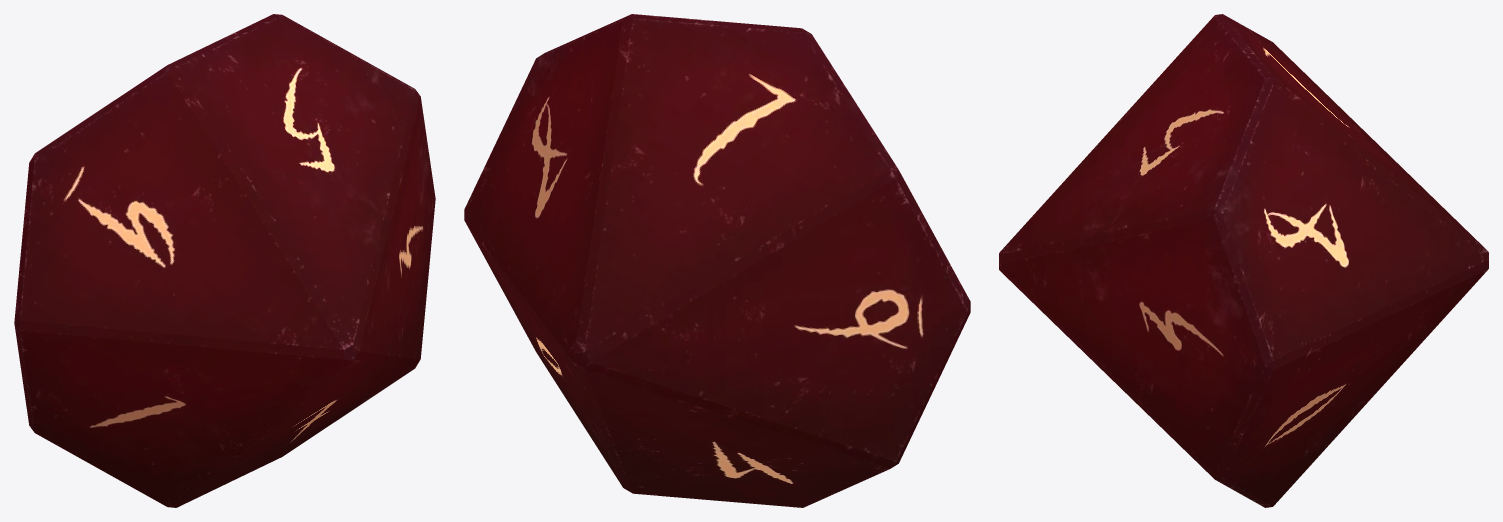
The model's file is DragonGem_d10.gltf.
The picture shows the model from 3 angles, left to right: view 1: azimuth 30°, elevation 25°; view 2: azimuth 150°, elevation 25°; view 3: azimuth 270°, elevation 25°; orthographic projection. The views are drawn at different scales.
Visible parts, largest first — view 1: dragongem_d10; view 2: dragongem_d10; view 3: dragongem_d10.
Part boxes in pixels (x1,y1,x2,y2): dragongem_d10: (14,14,435,507); dragongem_d10: (464,14,970,507); dragongem_d10: (999,14,1488,507).
Size of the model in its own units: 175 by 166 by 172.
Materials: 1 (1 with a texture image).
